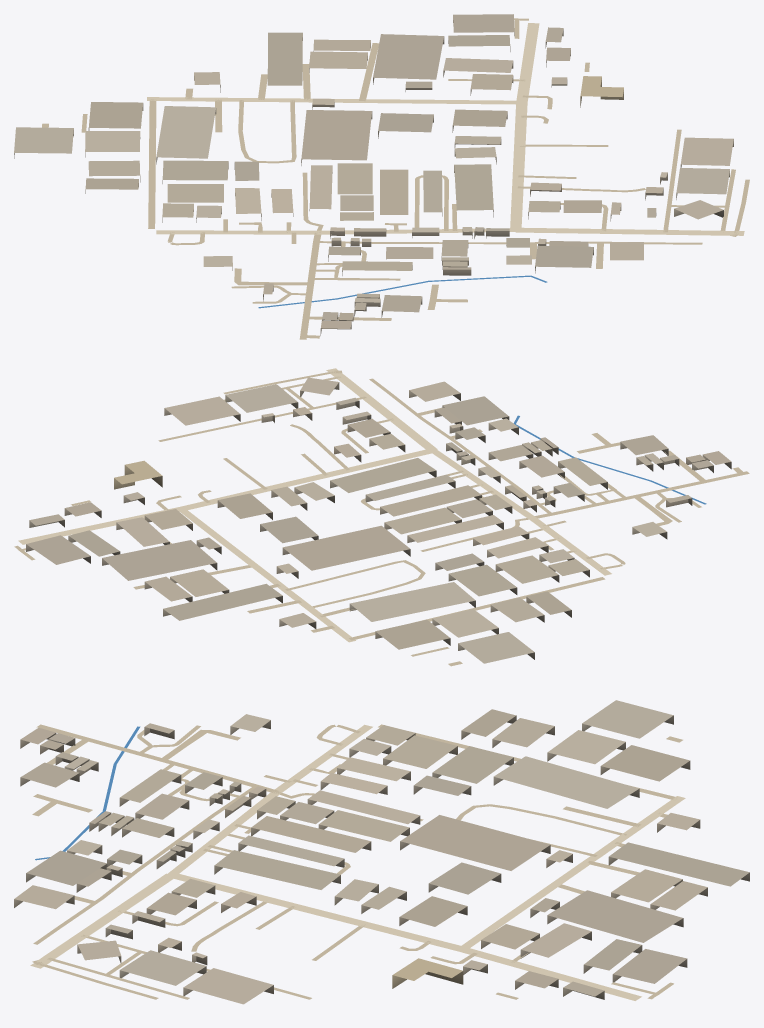
3 renders of one model, top to bottom at view 1: azimuth 30°, elevation 25°; view 2: azimuth 150°, elevation 25°; view 3: azimuth 270°, elevation 25°, orthographic. The views are drawn at different scales.
Visible parts, largest first — view 1: building, ground, water; view 2: building, ground; view 3: building, ground.
Part boxes in pixels (box(x1,y1,x2,y2)): building: box(14, 14, 733, 335); ground: box(42, 18, 749, 339); water: box(258, 275, 547, 308); building: box(26, 377, 731, 663); ground: box(14, 368, 749, 666); building: box(14, 700, 749, 1004); ground: box(30, 724, 685, 1000).
Size of the model in its own units: 557 by 12 by 569.
